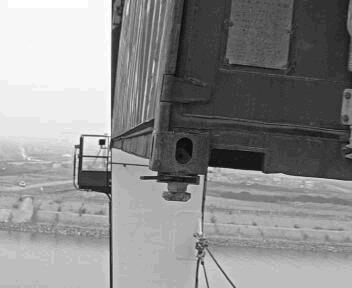twist_lock_1: (150, 170, 206, 210)
